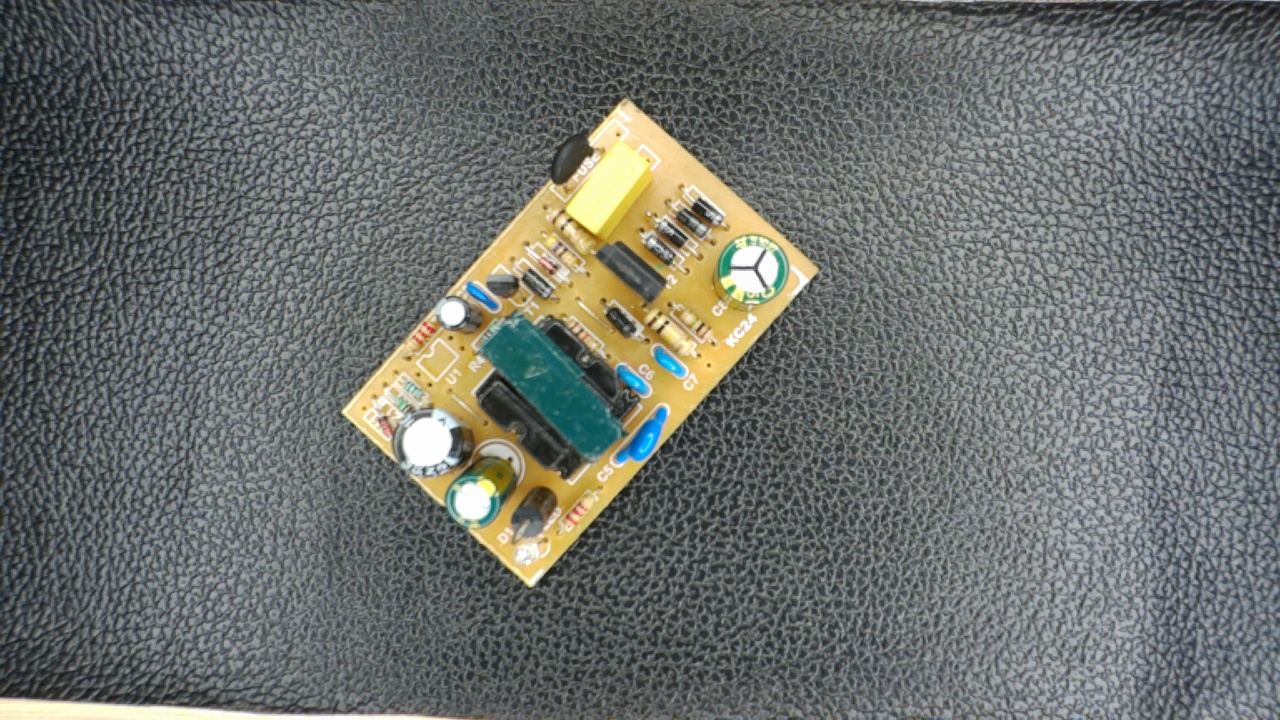fuse: (543, 131, 606, 200)
hv_capacitor: (713, 230, 794, 311)
mov: (611, 405, 672, 470)
